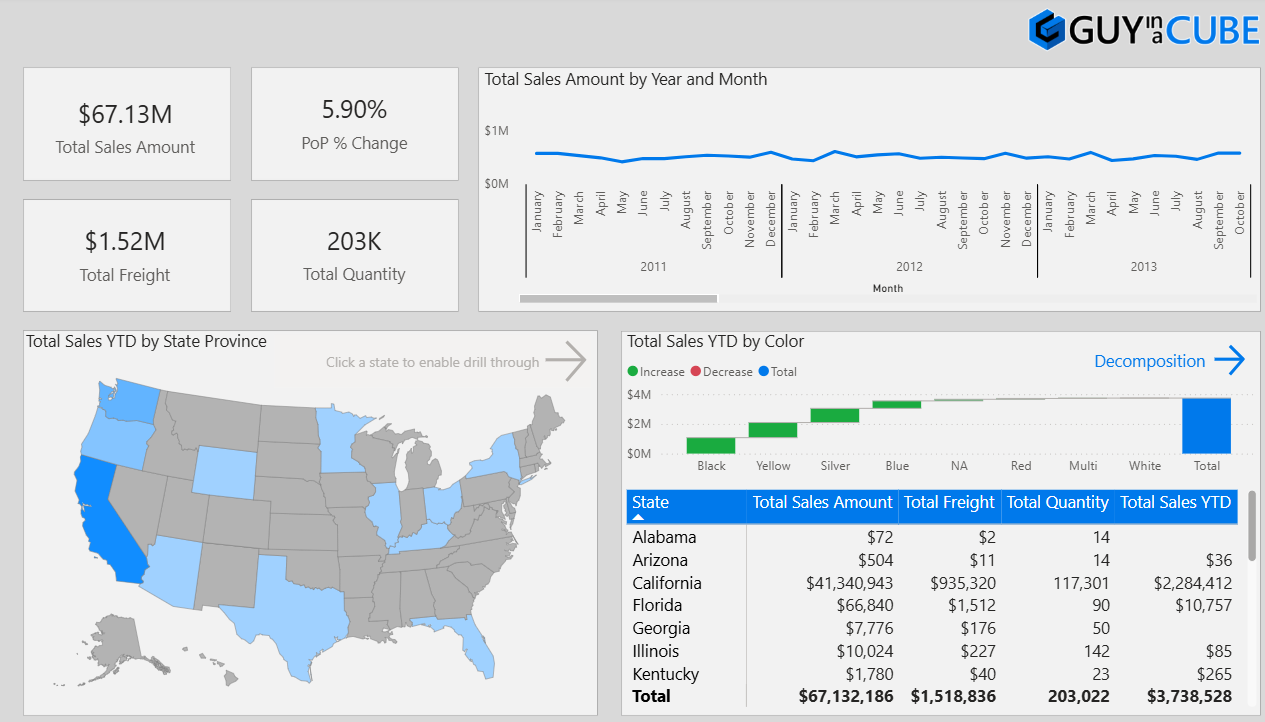

The dashboard page shown, as its layout file describes it:
{"tool":"powerbi","page":{"name":"Overview","canvas":[1280,720],"ordinal":0},"visuals":[{"type":"card","title":"Total Sales Card","fields":{"Values":["Internet Sales.Total Sales Amount"]},"box":[60,69.4,202.4,110.6],"z":0},{"type":"card","title":"PoP % Change Card","fields":{"Values":["Internet Sales.PoP % Change"]},"box":[284.5,69.3,195.8,104],"z":1000},{"type":"card","title":"Total Freight Card","fields":{"Values":["Internet Sales.Total Freight"]},"box":[60.2,193.8,201.9,108.1],"z":2000},{"type":"card","title":"Total Quantity Card","fields":{"Values":["Internet Sales.Total Quantity"]},"box":[284.5,194.8,195.8,107.1],"z":3000},{"type":"shapeMap","fields":{"Value":["Internet Sales.Total Sales YTD"],"Category":["Geography.State Province"]},"box":[60.2,321.2,557.8,372.2],"z":4000},{"type":"lineChart","fields":{"Y":["Internet Sales.Total Sales Amount"],"Category":["Calendar.Calendar Hierarchy.Year","Calendar.Calendar Hierarchy.Month"]},"box":[502.8,69.3,755.7,232.5],"z":5000},{"type":"waterfallChart","fields":{"Category":["Product.Color"],"Y":["Internet Sales.Total Sales YTD"]},"box":[640.5,321.2,618,150.9],"z":6000},{"type":"pivotTable","fields":{"Rows":["Geography.State Province"],"Values":["Internet Sales.Total Sales Amount","Internet Sales.Total Freight","Internet Sales.Total Quantity","Internet Sales.Total Sales YTD"]},"box":[640.5,472.2,618,219.3],"z":7000},{"type":"actionButton","title":"Filter Pane Button","box":[0,0,39.5,40.9],"z":9000},{"type":"actionButton","title":"Drill through button","box":[304.9,326.3,305.9,51],"z":10000},{"type":"actionButton","title":"Decomp Show Button","box":[1048.6,331.6,197.6,39.5],"z":13000},{"type":"actionButton","title":"Info Panel Button","box":[0,48,39.5,40.9],"z":13500}]}

Visuals, with their boxes in screenshot pixels (x1, y1, x2, y2), scaled from the page's 1280x720 canvas onto the 1265x722 screenshot:
"Total Sales Card" card: left=59, top=70, right=259, bottom=180
"PoP % Change Card" card: left=281, top=69, right=475, bottom=174
"Total Freight Card" card: left=59, top=194, right=259, bottom=303
"Total Quantity Card" card: left=281, top=195, right=475, bottom=303
shapeMap - Internet Sales.Total Sales YTD x Geography.State Province: left=59, top=322, right=611, bottom=695
lineChart - Internet Sales.Total Sales Amount x Calendar.Calendar Hierarchy.Year: left=497, top=69, right=1244, bottom=303
waterfallChart - Product.Color x Internet Sales.Total Sales YTD: left=633, top=322, right=1244, bottom=473
pivotTable - Geography.State Province x Internet Sales.Total Sales Amount: left=633, top=474, right=1244, bottom=693
"Filter Pane Button" actionButton: left=0, top=0, right=39, bottom=41
"Drill through button" actionButton: left=301, top=327, right=604, bottom=378
"Decomp Show Button" actionButton: left=1036, top=333, right=1232, bottom=372
"Info Panel Button" actionButton: left=0, top=48, right=39, bottom=89
